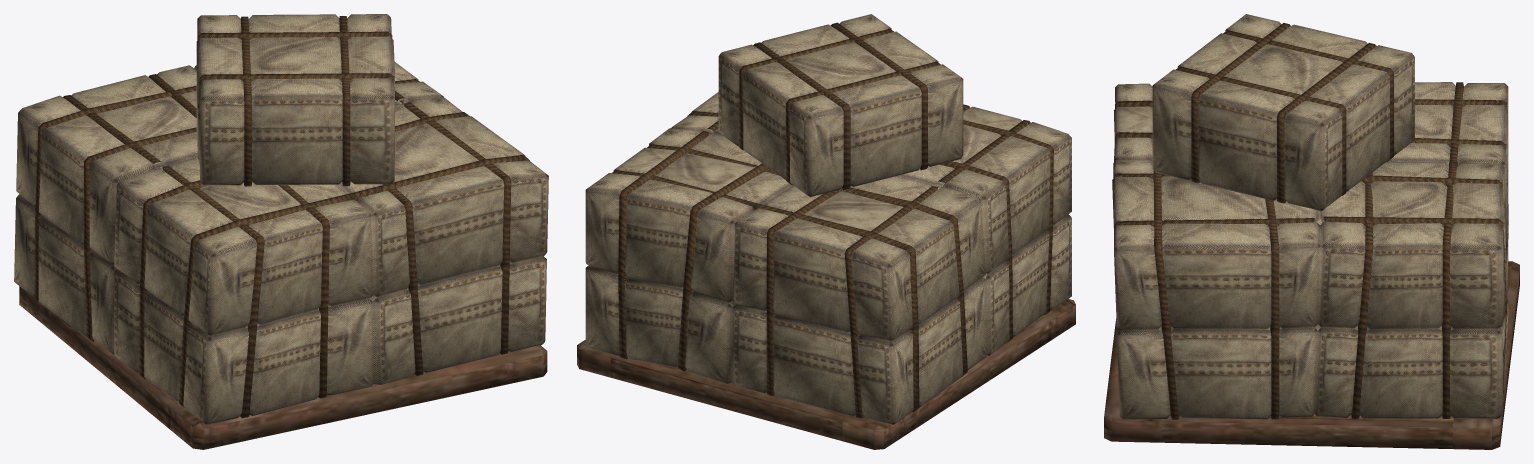
Rendered from o_mdl_env_propCrateE-transformed.glb.
3 views of the same model, side by side, from view 1: azimuth 30°, elevation 25°; view 2: azimuth 150°, elevation 25°; view 3: azimuth 270°, elevation 25° (orthographic). The views are drawn at different scales.
Parts seen in each view (by area): view 1: default; view 2: default; view 3: default.
Boxes of the visible parts, x1,y1,x2,y2 form: default: (14, 14, 548, 449); default: (577, 14, 1075, 449); default: (1104, 14, 1519, 449).
Size of the model in its own units: 3.03 by 2.38 by 3.03.
2 materials, 2 textured.
